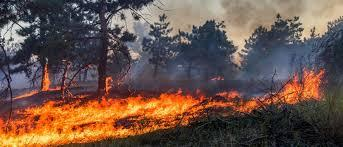fire: (1, 67, 325, 145), (8, 60, 117, 97)
